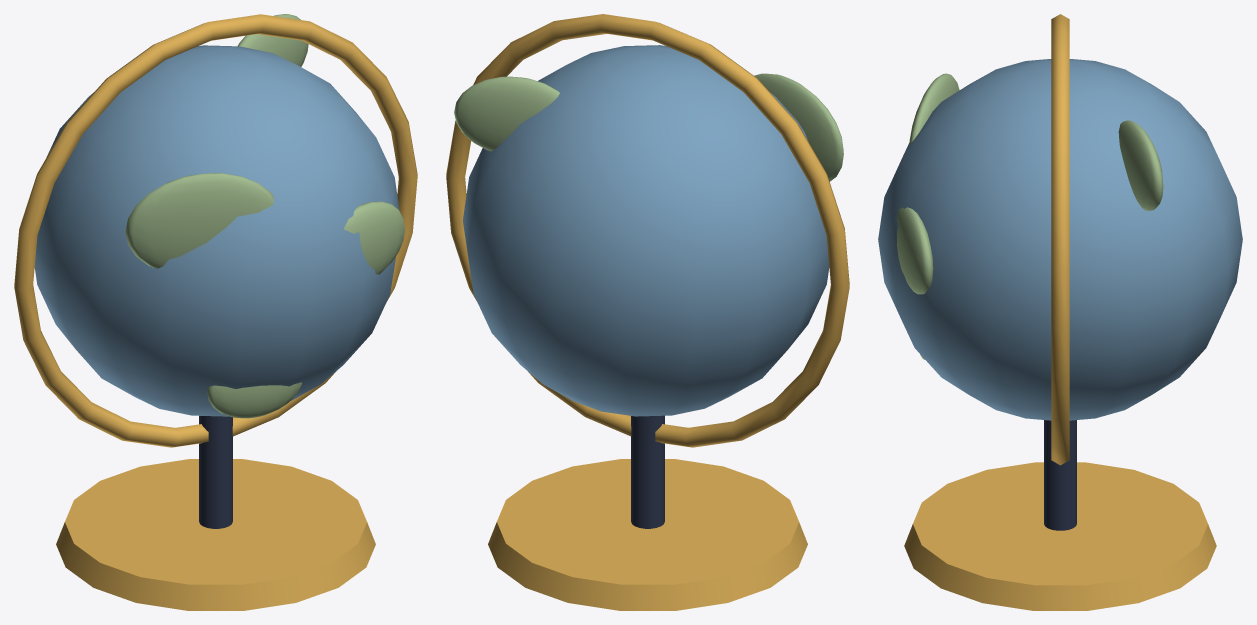
Rendered from objeto-globe.glb.
The picture shows the model from 3 angles, left to right: view 1: azimuth 30°, elevation 25°; view 2: azimuth 150°, elevation 25°; view 3: azimuth 270°, elevation 25°; orthographic projection. The views are drawn at different scales.
Parts seen in each view (by area): view 1: equipment:globe; view 2: equipment:globe; view 3: equipment:globe.
Boxes of the visible parts, x1=… form: equipment:globe: x1=14, y1=14, x2=417, y2=610; equipment:globe: x1=446, y1=14, x2=849, y2=610; equipment:globe: x1=878, y1=14, x2=1242, y2=610.
Bounding box in the file's own units: 0.5236 × 0.6508 × 0.42.
